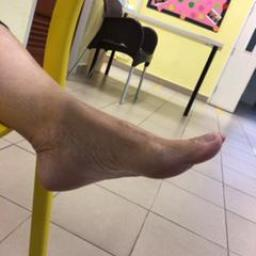Medial View -Left Foot-: (17, 74, 239, 220)
